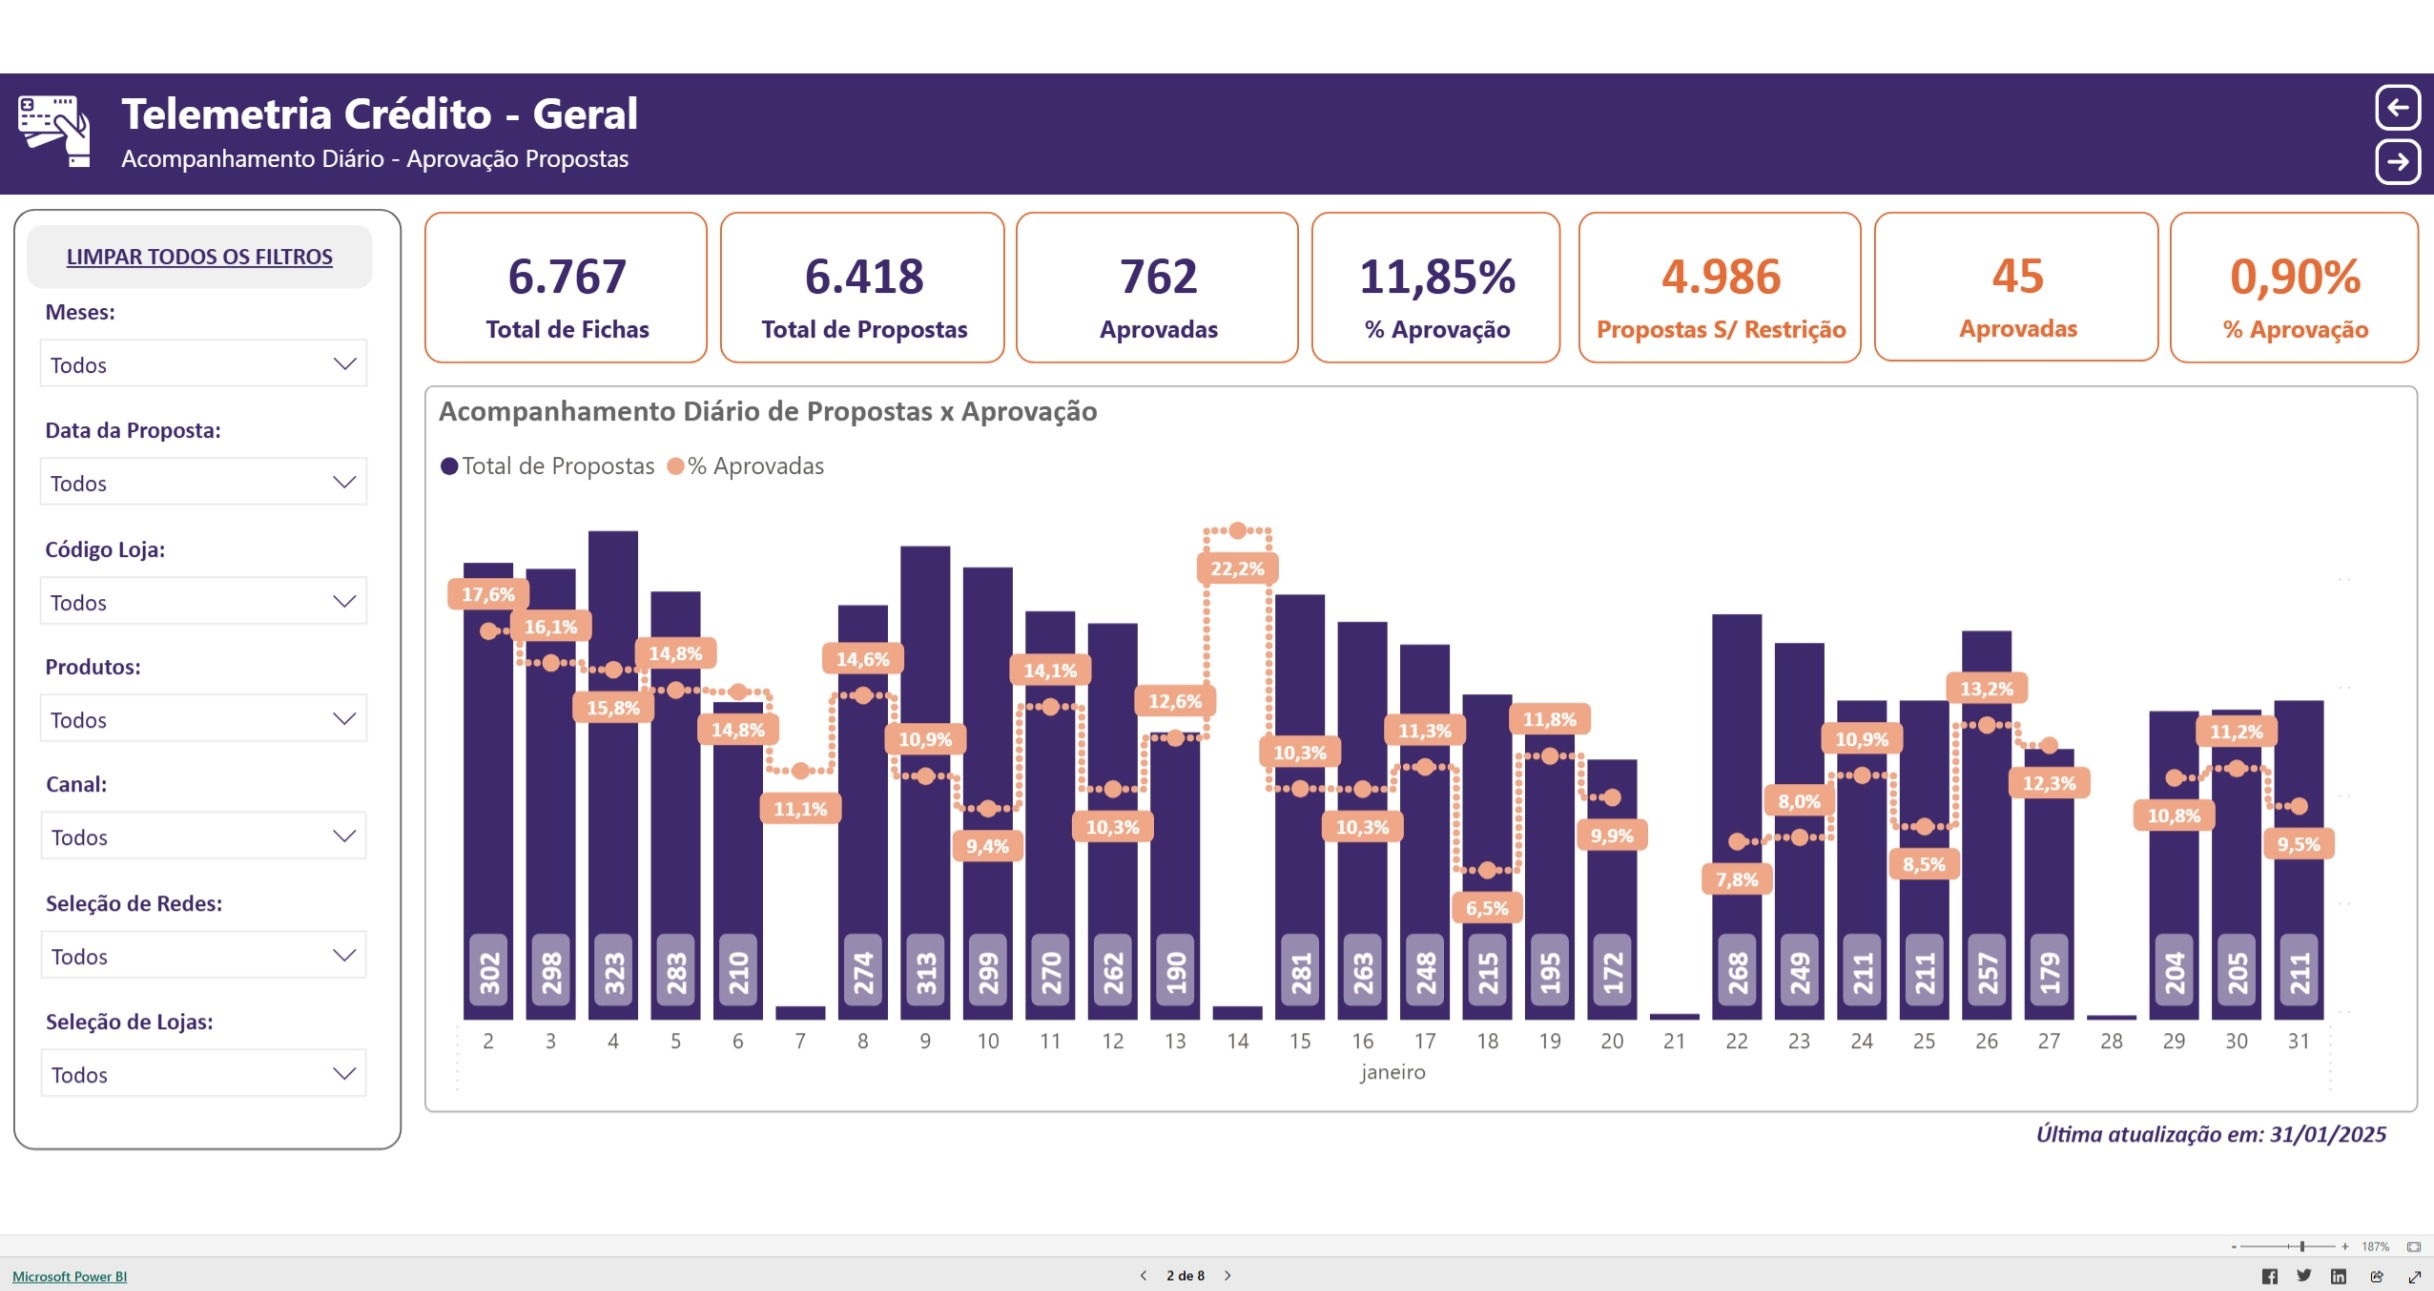

This screenshot's page, from the dashboard's own definition file:
{"tool":"powerbi","page":{"name":"Geral","canvas":[1366,610],"ordinal":0},"visuals":[{"type":"shape","box":[7.6,76.2,218.4,528.1],"z":0},{"type":"shape","box":[0,0,1366,68],"z":2000},{"type":"textbox","box":[63.4,0,430.8,44.4],"z":3000},{"type":"textbox","box":[63.2,33.8,430.4,30.8],"z":4000},{"type":"slicer","fields":{"Values":["Propostas.emissao.Variation.Hierarquia de datas.Ano","Propostas.emissao.Variation.Hierarquia de datas.Mês"]},"box":[12.5,119.9,204.2,64.6],"z":5000},{"type":"slicer","fields":{"Values":["Propostas.emissao"]},"box":[12.4,186.1,203.7,65.9],"z":6000},{"type":"slicer","fields":{"Values":["Propostas.lojista"]},"box":[12.4,253.2,203.7,64.7],"z":7000},{"type":"slicer","fields":{"Values":["Propostas.nome_produto"]},"box":[12.4,319.1,203.7,64.7],"z":8000},{"type":"slicer","fields":{"Values":["Propostas.nome_rede"]},"box":[12.7,451.9,203.1,64.7],"z":9000},{"type":"slicer","fields":{"Values":["Propostas.nome_loja"]},"box":[12.7,518,203.1,64.7],"z":10000},{"type":"slicer","fields":{"Values":["Propostas.canal"]},"box":[12.7,384.7,203.1,64.7],"z":11000},{"type":"shape","box":[15.2,85.1,194.2,35.5],"z":12000},{"type":"card","fields":{"Values":["Sum(Propostas.qtd_propostas)"]},"box":[242.9,77.8,270,105],"z":13000},{"type":"card","fields":{"Values":["Sum(Propostas.qtd_propostas)"]},"box":[520.5,77.8,270.3,104.3],"z":14000},{"type":"card","fields":{"Values":["Sum(Propostas.qtd_propostas)"]},"box":[798.1,77.8,270.3,104.3],"z":15000},{"type":"card","fields":{"Values":["#Medidas.%_Aprovadas"]},"box":[1074.2,77.8,270.3,104.3],"z":16000},{"type":"pivotTable","fields":{"Rows":["Propostas.descricao"],"Columns":["Propostas.canal"],"Values":["Sum(Propostas.qtd_propostas)","Divide(Sum(Propostas.qtd_propostas), ScopedEval(Sum(Propostas.qtd_propostas), [Role.Columns]))"]},"box":[238.6,306.1,1124.8,277.2],"z":17000},{"type":"card","fields":{"Values":["#Medidas.atualizacao"]},"box":[1115.9,583.3,250.1,26.7],"z":18000},{"type":"image","box":[4.4,7.3,52.9,49.9],"z":19000},{"type":"image","box":[1327.9,31.7,35.5,35.5],"z":20000},{"type":"image","box":[1327.9,1.3,35.5,35.5],"z":21000},{"type":"card","fields":{"Values":["Sum(Propostas.qtd_propostas)"]},"box":[243.1,191,270.1,104.8],"z":23000},{"type":"card","fields":{"Values":["#Medidas.Crivo_A"]},"box":[520.3,191.7,270.1,104.2],"z":24000},{"type":"card","fields":{"Values":["#Medidas.Crivo_P"]},"box":[798.1,191,270.1,104.2],"z":25000},{"type":"card","fields":{"Values":["#Medidas.Crivo_R"]},"box":[1074,191,270.1,104.2],"z":26000}]}

Visuals, with their boxes on the page's 1366x610 design canvas (x1, y1, x2, y2). These are canvas units, not pixel positions in the 2434x1291 screenshot, which may show the page scaled, cropped or inside an application window:
shape: region(8, 76, 226, 604)
shape: region(0, 0, 1366, 68)
textbox: region(63, 0, 494, 44)
textbox: region(63, 34, 494, 65)
slicer - Propostas.emissao.Variation.Hierarquia de datas.Ano x Propostas.emissao.Variation.Hierarquia de datas.Mês: region(12, 120, 217, 184)
slicer - Propostas.emissao: region(12, 186, 216, 252)
slicer - Propostas.lojista: region(12, 253, 216, 318)
slicer - Propostas.nome_produto: region(12, 319, 216, 384)
slicer - Propostas.nome_rede: region(13, 452, 216, 517)
slicer - Propostas.nome_loja: region(13, 518, 216, 583)
slicer - Propostas.canal: region(13, 385, 216, 449)
shape: region(15, 85, 209, 121)
card - Sum(Propostas.qtd_propostas): region(243, 78, 513, 183)
card - Sum(Propostas.qtd_propostas): region(520, 78, 791, 182)
card - Sum(Propostas.qtd_propostas): region(798, 78, 1068, 182)
card - #Medidas.%_Aprovadas: region(1074, 78, 1344, 182)
pivotTable - Propostas.descricao x Propostas.canal: region(239, 306, 1363, 583)
card - #Medidas.atualizacao: region(1116, 583, 1366, 610)
image: region(4, 7, 57, 57)
image: region(1328, 32, 1363, 67)
image: region(1328, 1, 1363, 37)
card - Sum(Propostas.qtd_propostas): region(243, 191, 513, 296)
card - #Medidas.Crivo_A: region(520, 192, 790, 296)
card - #Medidas.Crivo_P: region(798, 191, 1068, 295)
card - #Medidas.Crivo_R: region(1074, 191, 1344, 295)
